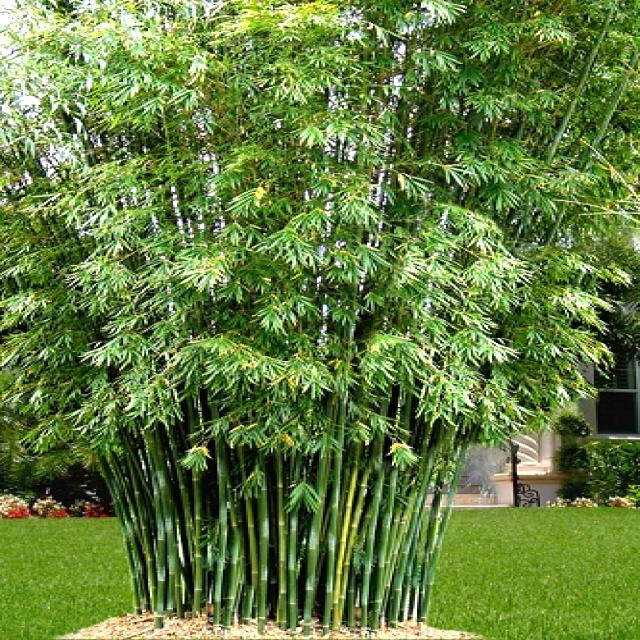Clumping: (53, 0, 547, 634)
